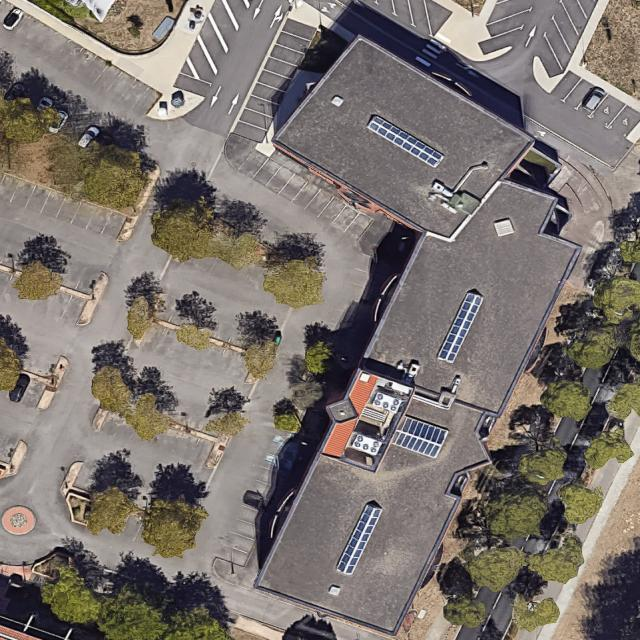immeuble: (247, 353, 507, 640), (268, 12, 536, 271), (362, 153, 596, 422)
